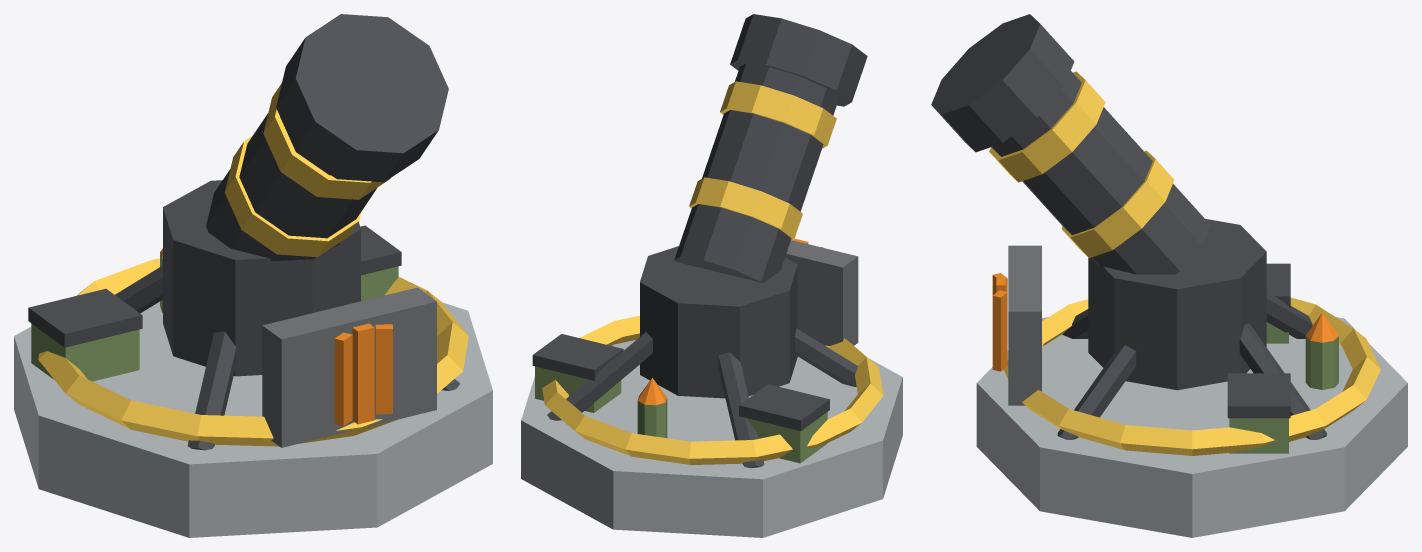
The model's file is TD_MortarTower_T3.fbx.
The picture shows the model from 3 angles, left to right: view 1: azimuth 30°, elevation 25°; view 2: azimuth 150°, elevation 25°; view 3: azimuth 270°, elevation 25°; orthographic projection. The views are drawn at different scales.
Parts seen in each view (by area): view 1: TD_MortarTower_T3_Base, TD_MortarTower_T3_MuzzleBlock, TD_MortarTower_T3_HeavyBarrelSupport, TD_MortarTower_T3_FrontArmorPlate, TD_MortarTower_T3_GoldBaseUpgradeRing, TD_MortarTower_T3_EliteMortarBarrel, TD_MortarTower_T3_AmmoBox_Left_Lid, TD_MortarTower_T3_GoldBarrelReinforcement_Lower, TD_MortarTower_T3_AmmoBox_Left, TD_MortarTower_T3_GoldBarrelReinforcement_Upper, TD_MortarTower_T3_HeavyLeg_03, TD_MortarTower_T3_ExplosionMark_Vertical (+5 smaller); view 2: TD_MortarTower_T3_Base, TD_MortarTower_T3_HeavyBarrelSupport, TD_MortarTower_T3_EliteMortarBarrel, TD_MortarTower_T3_GoldBaseUpgradeRing, TD_MortarTower_T3_MuzzleBlock, TD_MortarTower_T3_FrontArmorPlate, TD_MortarTower_T3_GoldBarrelReinforcement_Upper, TD_MortarTower_T3_GoldBarrelReinforcement_Lower, TD_MortarTower_T3_AmmoBox_Left_Lid, TD_MortarTower_T3_AmmoBox_Right_Lid, TD_MortarTower_T3_HeavyLeg_01, TD_MortarTower_T3_HeavyLeg_02 (+5 smaller); view 3: TD_MortarTower_T3_Base, TD_MortarTower_T3_HeavyBarrelSupport, TD_MortarTower_T3_EliteMortarBarrel, TD_MortarTower_T3_MuzzleBlock, TD_MortarTower_T3_GoldBaseUpgradeRing, TD_MortarTower_T3_FrontArmorPlate, TD_MortarTower_T3_GoldBarrelReinforcement_Upper, TD_MortarTower_T3_GoldBarrelReinforcement_Lower, TD_MortarTower_T3_AmmoBox_Right_Lid, TD_MortarTower_T3_HeavyLeg_04, TD_MortarTower_T3_HeavyLeg_01, TD_MortarTower_T3_ReadyShell_Body (+5 smaller).
Part boxes in pixels (box(x1,y1,x2,y2)): TD_MortarTower_T3_Base: box(14, 301, 492, 537); TD_MortarTower_T3_MuzzleBlock: box(276, 14, 448, 182); TD_MortarTower_T3_HeavyBarrelSupport: box(163, 180, 360, 376); TD_MortarTower_T3_FrontArmorPlate: box(262, 287, 436, 447); TD_MortarTower_T3_GoldBaseUpgradeRing: box(38, 258, 468, 446); TD_MortarTower_T3_EliteMortarBarrel: box(206, 113, 376, 260); TD_MortarTower_T3_AmmoBox_Left_Lid: box(28, 288, 142, 347); TD_MortarTower_T3_GoldBarrelReinforcement_Lower: box(224, 135, 361, 257); TD_MortarTower_T3_AmmoBox_Left: box(31, 323, 139, 381); TD_MortarTower_T3_GoldBarrelReinforcement_Upper: box(263, 83, 390, 199); TD_MortarTower_T3_HeavyLeg_03: box(187, 331, 236, 450); TD_MortarTower_T3_ExplosionMark_Vertical: box(352, 323, 374, 424); TD_MortarTower_T3_Base: box(521, 340, 902, 537); TD_MortarTower_T3_HeavyBarrelSupport: box(640, 246, 797, 398); TD_MortarTower_T3_EliteMortarBarrel: box(674, 63, 839, 282); TD_MortarTower_T3_GoldBaseUpgradeRing: box(542, 315, 883, 464); TD_MortarTower_T3_MuzzleBlock: box(730, 14, 867, 106); TD_MortarTower_T3_FrontArmorPlate: box(785, 240, 858, 345); TD_MortarTower_T3_GoldBarrelReinforcement_Upper: box(720, 81, 836, 148); TD_MortarTower_T3_GoldBarrelReinforcement_Lower: box(689, 177, 802, 240); TD_MortarTower_T3_AmmoBox_Left_Lid: box(739, 384, 829, 430); TD_MortarTower_T3_AmmoBox_Right_Lid: box(532, 334, 623, 380); TD_MortarTower_T3_HeavyLeg_01: box(547, 332, 652, 420); TD_MortarTower_T3_HeavyLeg_02: box(718, 352, 764, 468); TD_MortarTower_T3_Base: box(976, 317, 1407, 537); TD_MortarTower_T3_HeavyBarrelSupport: box(1088, 218, 1266, 390); TD_MortarTower_T3_EliteMortarBarrel: box(991, 70, 1210, 274); TD_MortarTower_T3_MuzzleBlock: box(931, 14, 1074, 152); TD_MortarTower_T3_GoldBaseUpgradeRing: box(1003, 297, 1380, 455); TD_MortarTower_T3_FrontArmorPlate: box(1008, 245, 1041, 405); TD_MortarTower_T3_GoldBarrelReinforcement_Upper: box(989, 71, 1105, 182); TD_MortarTower_T3_GoldBarrelReinforcement_Lower: box(1061, 150, 1174, 258); TD_MortarTower_T3_AmmoBox_Right_Lid: box(1227, 373, 1290, 418); TD_MortarTower_T3_HeavyLeg_04: box(1057, 345, 1136, 439); TD_MortarTower_T3_HeavyLeg_01: box(1239, 323, 1326, 439); TD_MortarTower_T3_ReadyShell_Body: box(1305, 336, 1338, 389).
Bounding box in the file's own units: 1.16 × 1.26 × 1.28.
